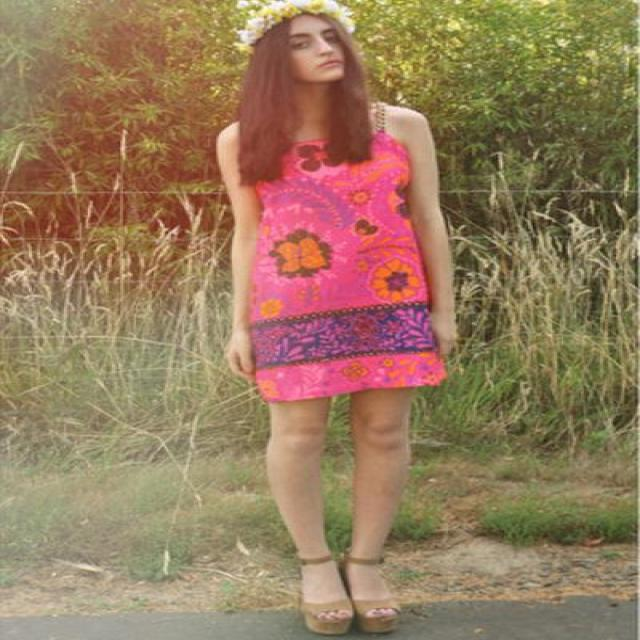dress: (235, 104, 459, 401)
shoe: (299, 550, 416, 619)
